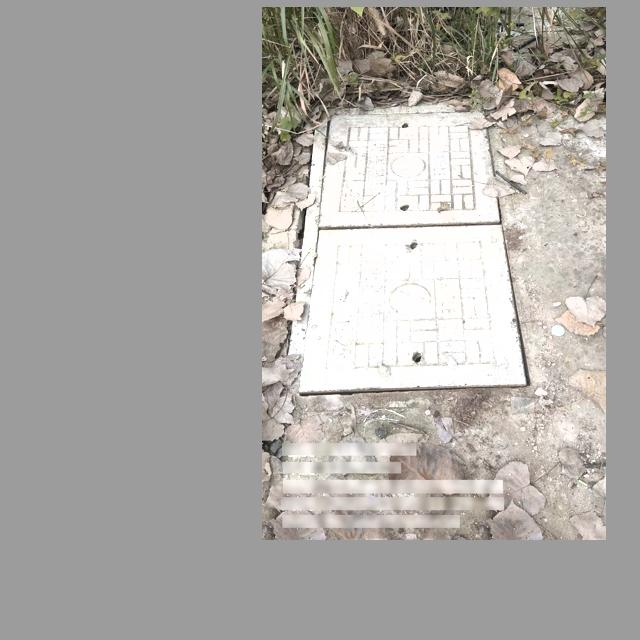good: (295, 105, 531, 392)
